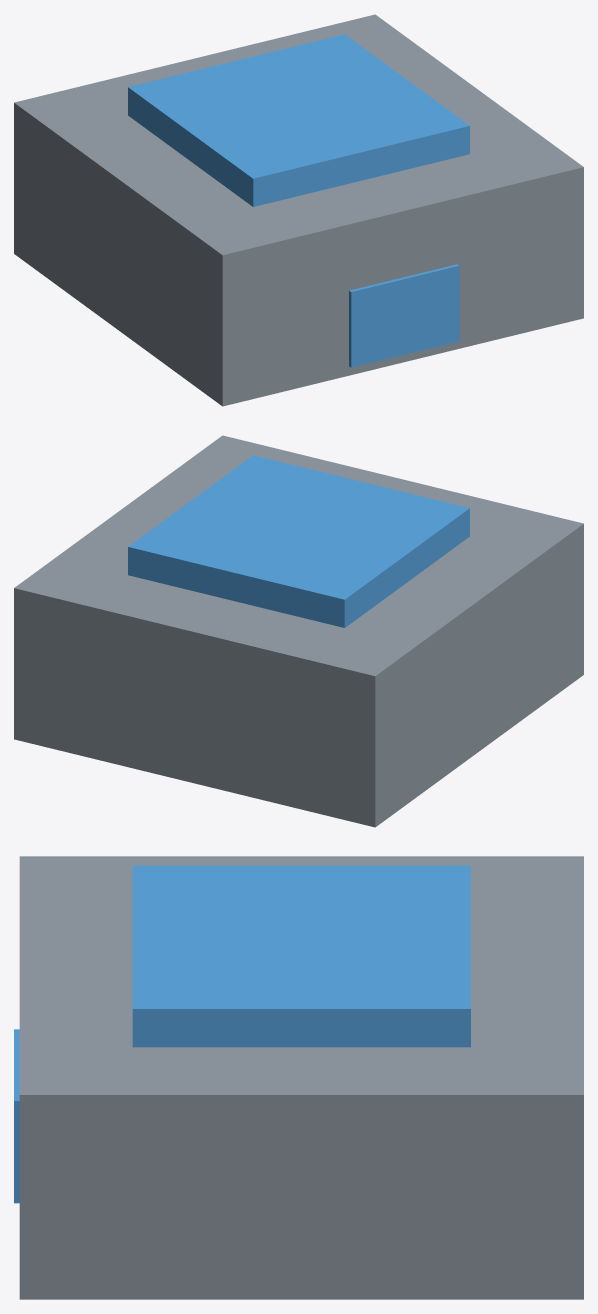
The model's file is AL_NavalYard_LOD0.glb.
The picture shows the model from 3 angles, top to bottom: view 1: azimuth 30°, elevation 25°; view 2: azimuth 150°, elevation 25°; view 3: azimuth 270°, elevation 25°; orthographic projection. The views are drawn at different scales.
Visible parts, largest first — view 1: EntranceGate; view 2: EntranceGate; view 3: EntranceGate.
Part boxes in pixels (x1,y1,x2,y2): EntranceGate: [14, 14, 583, 406]; EntranceGate: [14, 435, 583, 827]; EntranceGate: [14, 856, 583, 1299].
Bounding box in the file's own units: 1000 × 475 × 1010.
